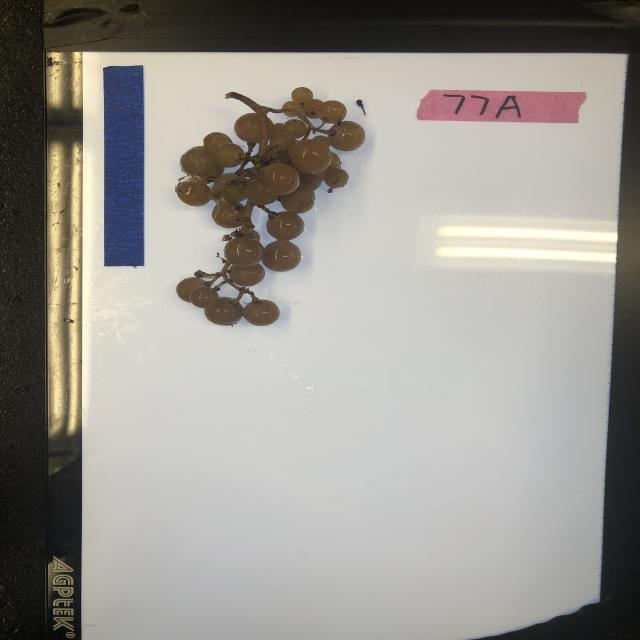grape_cluster: (174, 84, 368, 326)
index: (416, 85, 589, 127)
measure_label: (102, 64, 146, 268)
